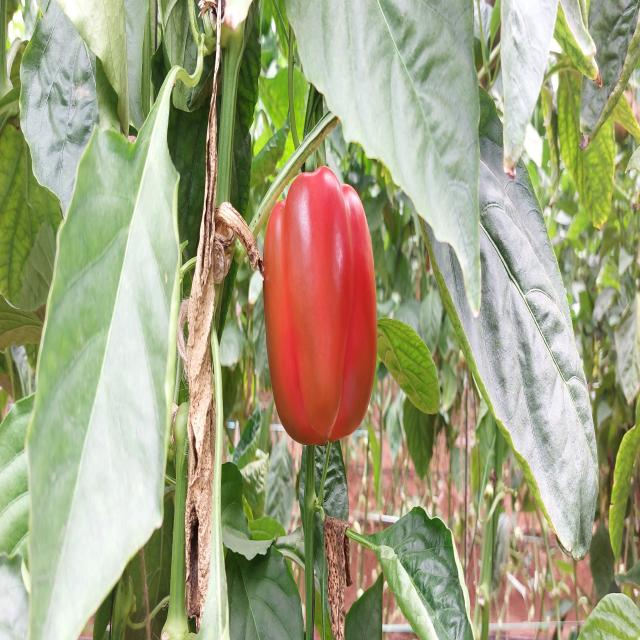Red-Ready-to-Harvest: (261, 183, 383, 450)
